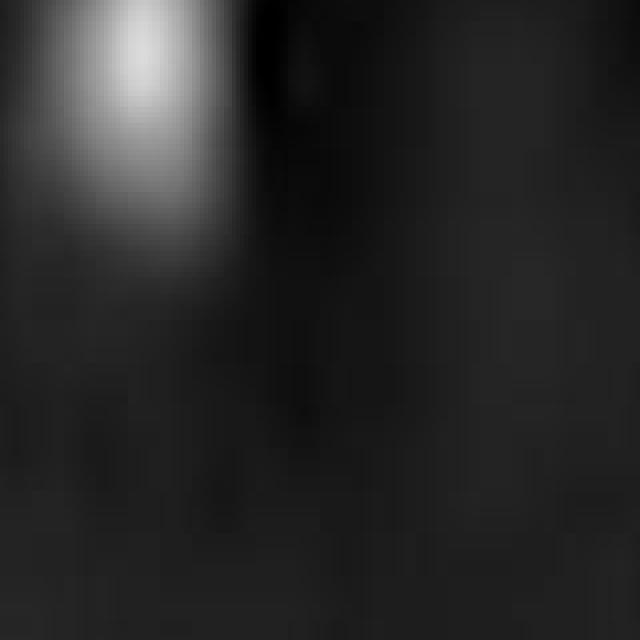person: (21, 1, 253, 321)
